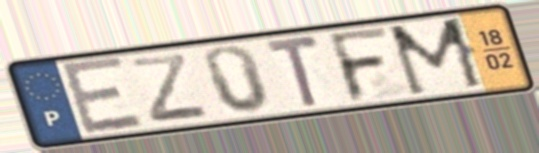0: (202, 44, 273, 118)
E: (56, 54, 149, 139)
F: (324, 24, 394, 106)
M: (384, 14, 490, 100)
T: (262, 32, 324, 112)
Z: (126, 51, 214, 125)
